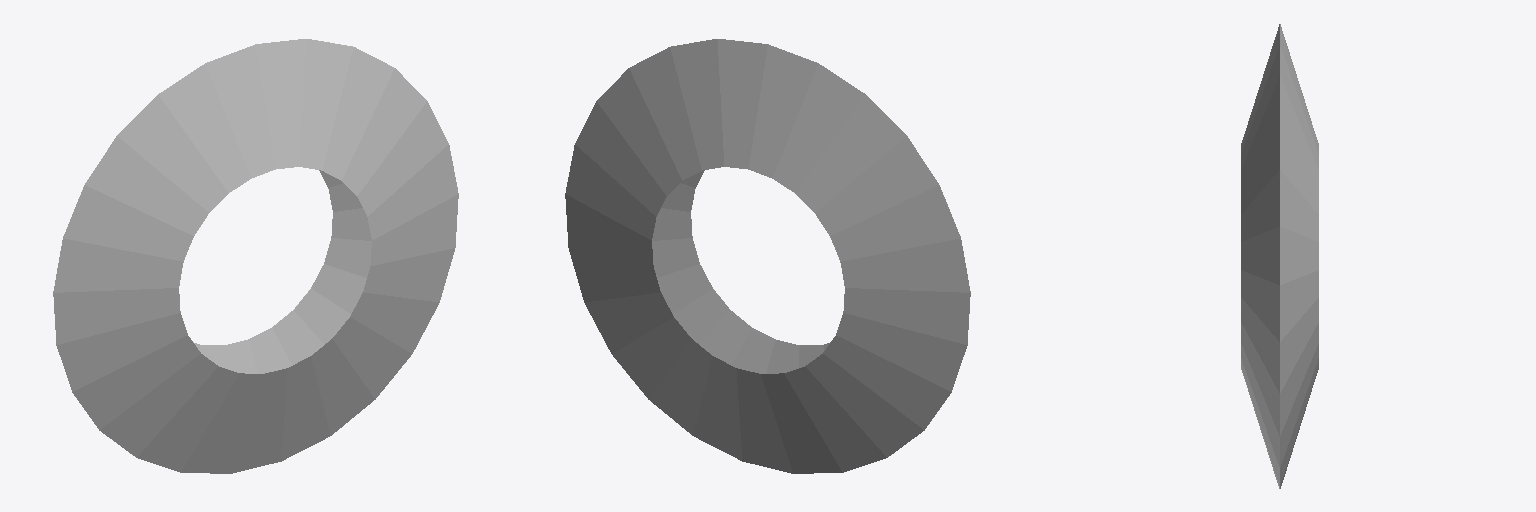
Rendered from CylinderBlade01.obj.
The picture shows the model from 3 angles: view 1: azimuth 30°, elevation 25°; view 2: azimuth 150°, elevation 25°; view 3: azimuth 270°, elevation 25°; orthographic projection.
Parts seen in each view (by area): view 1: pCylinder2; view 2: pCylinder2; view 3: pCylinder2.
Boxes of the visible parts, <box> form: pCylinder2: <box>53,39,458,473</box>; pCylinder2: <box>565,39,970,473</box>; pCylinder2: <box>1241,24,1318,488</box>.
Size of the model in its own units: 2 by 1.99 by 0.3331.